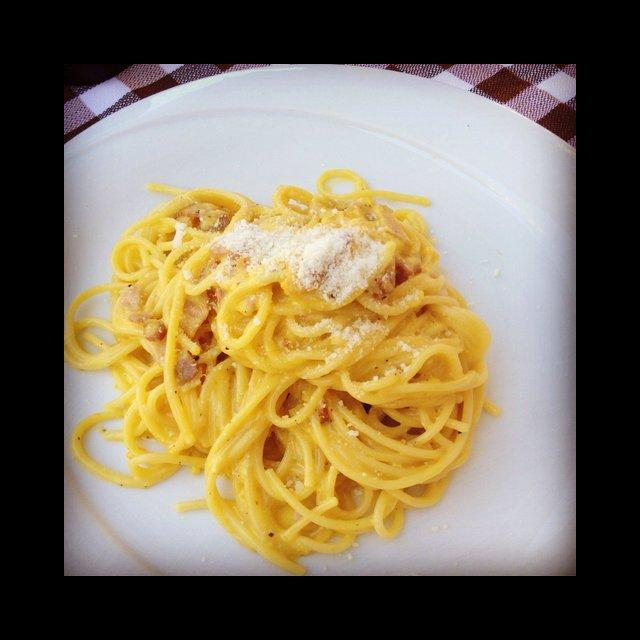noodles: (64, 167, 499, 576)
